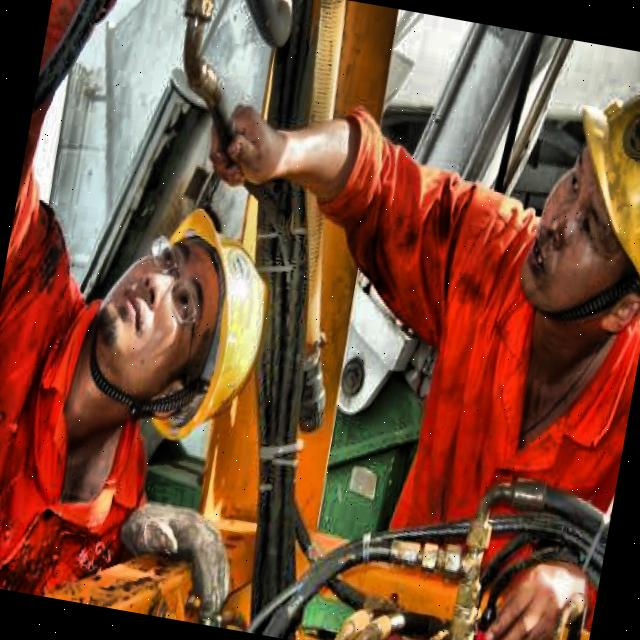helmet: (90, 195, 283, 460), (504, 48, 640, 369)
